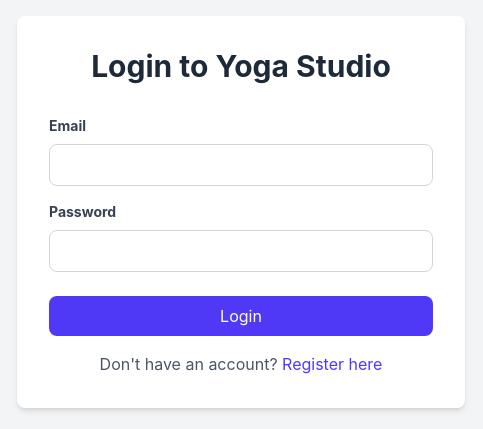
Test: Login page › disables the button while the login request is pending
Type " member@example.com " into the field labelled "Email". click: [241, 165]
box: [49,144,433,186]
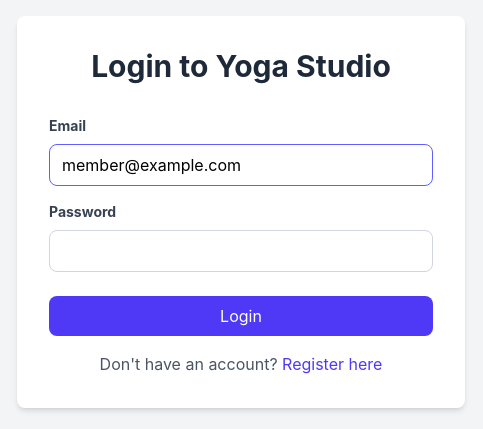
Type "secret" into the password field labelled "Password". click: [241, 251]
box: [49,230,433,272]
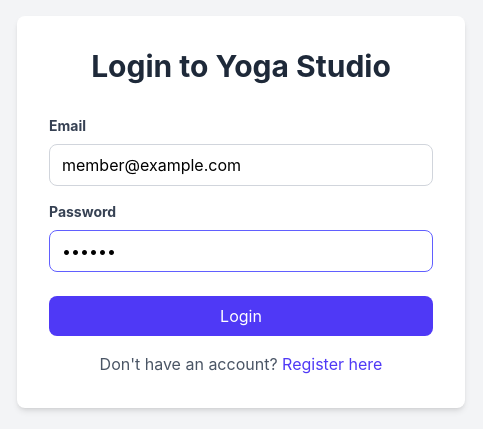
Click the button "Login". click: [241, 316]
box: [49,296,433,336]
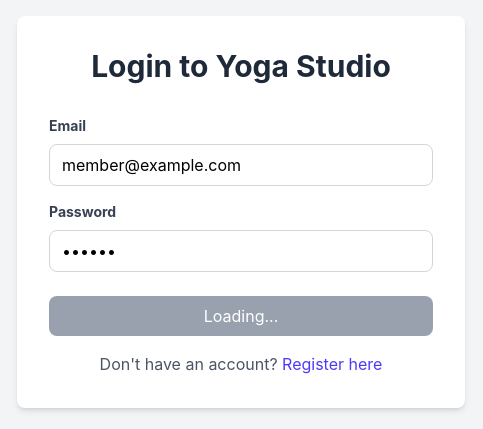
Expected: the button "Loading..." is shown, [49,296,433,336]
Expected: the button "Loading..." is disabled, [49,296,433,336]
